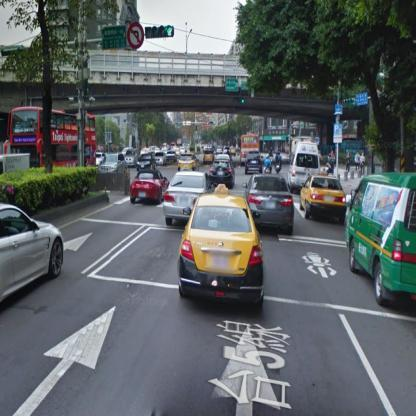Green Light: (144, 26, 176, 37)
